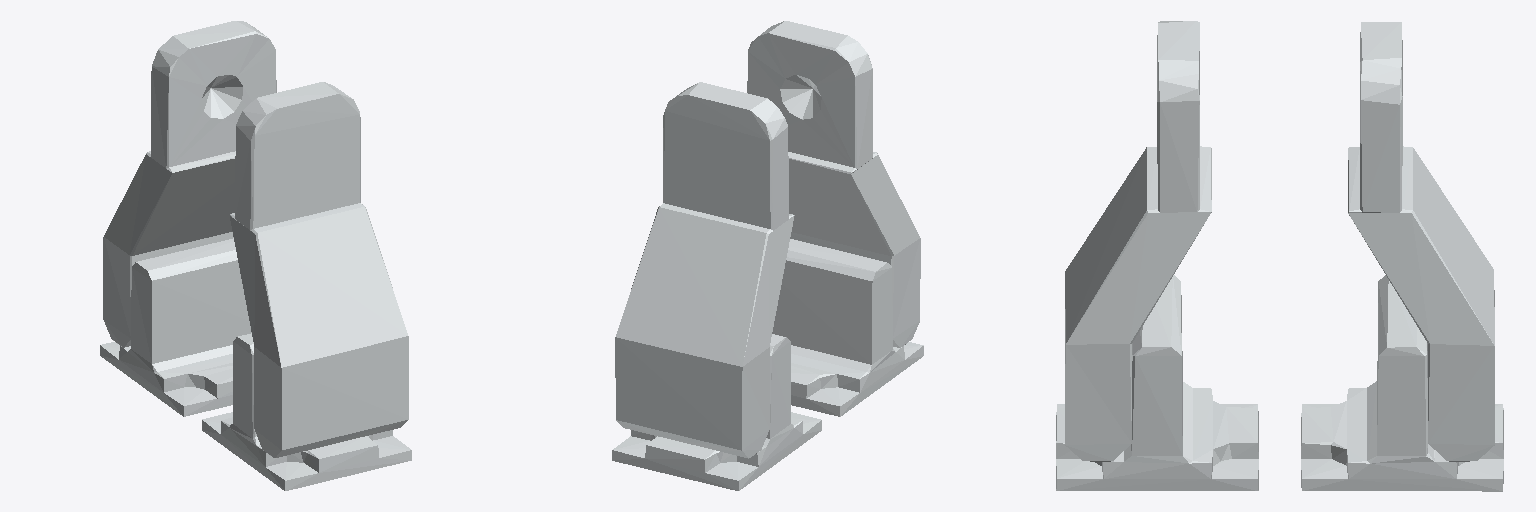
URDF robot description (panda_tac):
<robot name="panda_tac">
    <link name="panda_hand">
        <visual>
            <geometry>
                <mesh filename="meshes/visual/hand.dae" />
            </geometry>
        </visual>
        <collision>
            <geometry>
                <mesh filename="meshes/collision/hand.obj" />
            </geometry>
        </collision>
    </link>
    <link name="panda_leftfinger">
        <visual>
            <geometry>
                <mesh filename="meshes/visual/finger_tactile_base.dae" />
            </geometry>
        </visual>
        <collision>
            <geometry>
                <mesh filename="meshes/collision/finger.obj" />
            </geometry>
        </collision>
    </link>
    <link name="panda_rightfinger">
        <visual>
            <origin rpy="0 0 3.14159265359" xyz="0 0 0" />
            <geometry>
                <mesh filename="meshes/visual/finger_tactile_base.dae" />
            </geometry>
        </visual>
        <collision>
            <origin rpy="0 0 3.14159265359" xyz="0 0 0" />
            <geometry>
                <mesh filename="meshes/collision/finger.obj" />
            </geometry>
        </collision>
    </link>
    <joint name="panda_finger_joint1" type="prismatic">
        <parent link="panda_hand" />
        <child link="panda_leftfinger" />
        <origin rpy="0 0 0" xyz="0 0 0.0584" />
        <axis xyz="0 1 0" />
        <dynamics damping="10.0" />
        <limit effort="20" lower="0.0" upper="0.04" velocity="0.2" />
    </joint>
    <joint name="panda_finger_joint2" type="prismatic">
        <parent link="panda_hand" />
        <child link="panda_rightfinger" />
        <origin rpy="0 0 0" xyz="0 0 0.0584" />
        <axis xyz="0 -1 0" />
        <dynamics damping="10.0" />
        <limit effort="20" lower="0.0" upper="0.04" velocity="0.2" />
    </joint>
</robot>

--- Render facts (derived) ---
3 views of the same robot in one strip: view 1: azimuth 30°, elevation 25°; view 2: azimuth 150°, elevation 25°; view 3: azimuth 270°, elevation 25° (orthographic).
Robot: panda_tac — 3 links, 2 joints (2 prismatic); root link panda_hand; default pose: every joint at zero.
Visible links, largest first — view 1: panda_rightfinger, panda_leftfinger; view 2: panda_leftfinger, panda_rightfinger; view 3: panda_leftfinger, panda_rightfinger.
Boxes of the visible links, x1,y1,x2,y2 form: panda_rightfinger: [202, 82, 411, 490]; panda_leftfinger: [100, 21, 276, 416]; panda_leftfinger: [612, 82, 821, 490]; panda_rightfinger: [747, 21, 923, 416]; panda_leftfinger: [1301, 22, 1503, 491]; panda_rightfinger: [1056, 21, 1258, 490].
Bounding box of the posed robot: 0.021 × 0.0527 × 0.0537 m (x, y, z).
Meshes: 2 distinct files referenced, 2 mesh visuals loaded (1 Collada DAE); not drawn: 1 (reference not matched to a file when rendering).